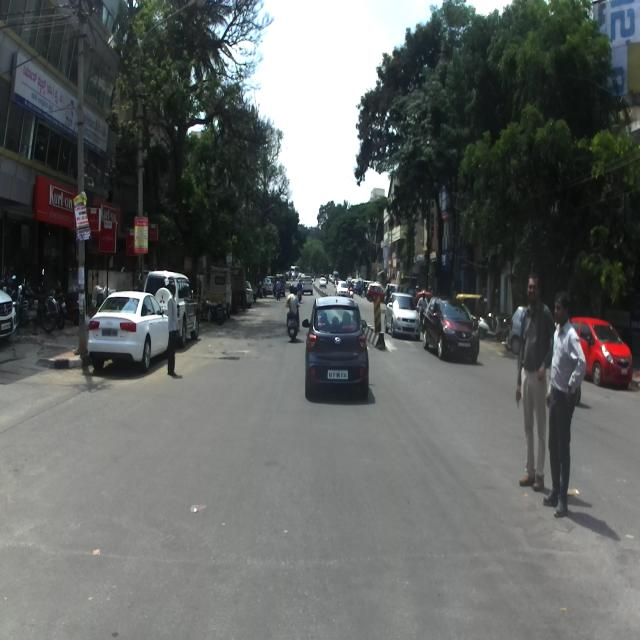car ahead at: (305, 297, 371, 410), (91, 289, 168, 369), (425, 293, 480, 360)
electric pole ahead at: (67, 0, 92, 372)
motorcycle ahead at: (285, 283, 300, 347)
person ahead at: (511, 269, 550, 494), (550, 280, 584, 524), (163, 275, 181, 381)
